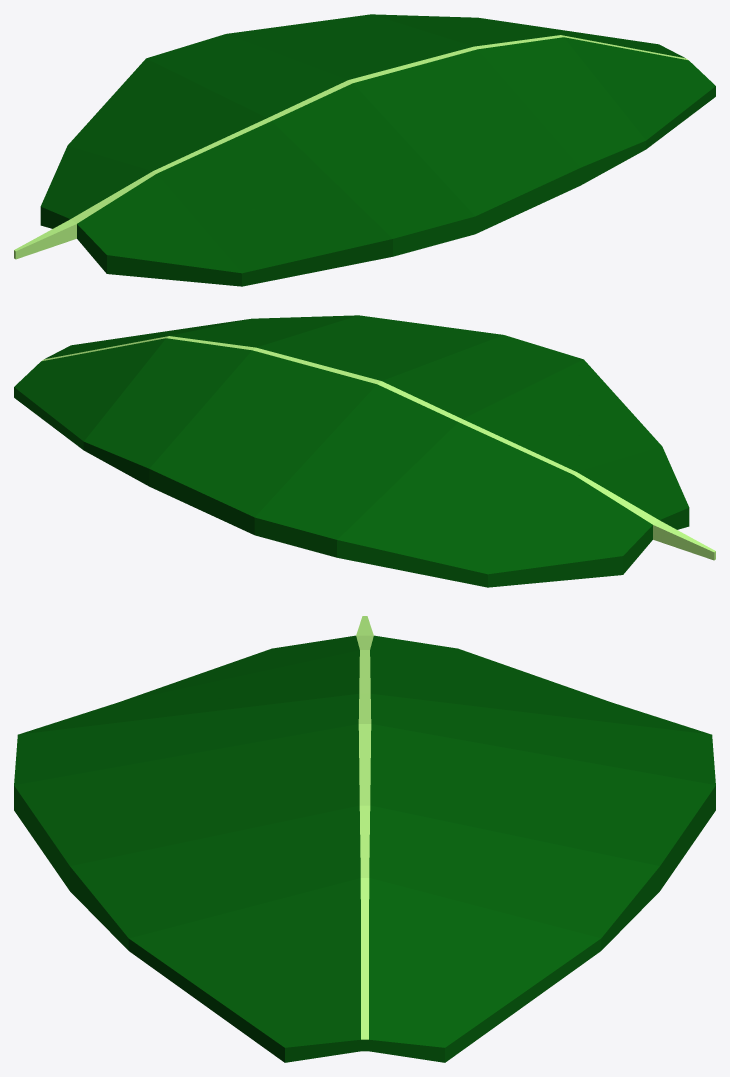
The model's file is basil01.obj.
3 renders of one model, top to bottom at view 1: azimuth 30°, elevation 25°; view 2: azimuth 150°, elevation 25°; view 3: azimuth 270°, elevation 25°, orthographic. The views are drawn at different scales.
Parts seen in each view (by area): view 1: Cylinder.001; view 2: Cylinder.001; view 3: Cylinder.001.
Boxes of the visible parts, x1=… form: Cylinder.001: x1=14, y1=14, x2=715, y2=286; Cylinder.001: x1=14, y1=315, x2=715, y2=587; Cylinder.001: x1=14, y1=616, x2=715, y2=1062.
Bounding box in the file's own units: 0.0745 × 0.011 × 0.0479.
Materials: 1 (1 with a texture image).
